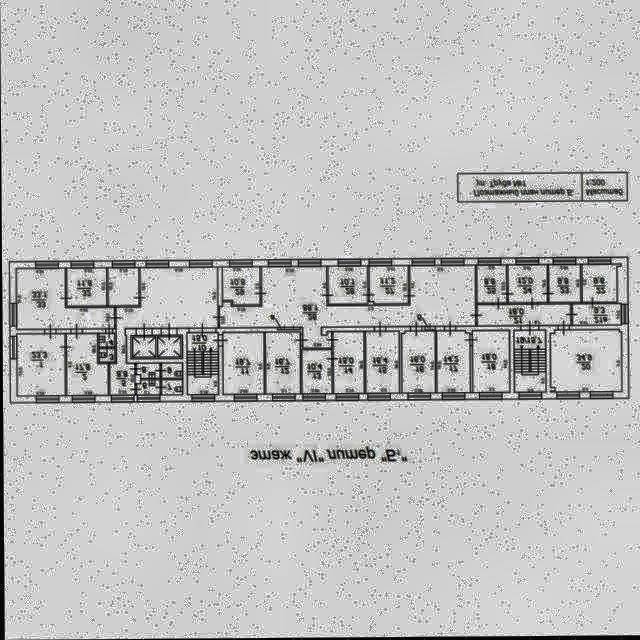room: (219, 267, 476, 349), (108, 268, 218, 395), (16, 268, 114, 329), (549, 330, 622, 393), (17, 334, 64, 395), (66, 334, 107, 396), (223, 333, 263, 395), (473, 332, 509, 394), (436, 332, 469, 394), (266, 333, 299, 394), (477, 305, 570, 326), (402, 332, 434, 393), (366, 333, 398, 393), (188, 334, 218, 395), (333, 333, 363, 393), (515, 331, 544, 393), (581, 264, 621, 303), (508, 265, 546, 304), (328, 267, 367, 305), (369, 267, 408, 305), (222, 267, 259, 306), (67, 269, 105, 305), (301, 351, 330, 394), (549, 266, 580, 303), (108, 269, 138, 306), (477, 266, 506, 303), (573, 306, 620, 325), (132, 337, 154, 357), (157, 338, 180, 357), (136, 380, 159, 395), (136, 364, 159, 378), (161, 380, 182, 395), (161, 364, 181, 378), (99, 349, 114, 362), (99, 334, 114, 346)
